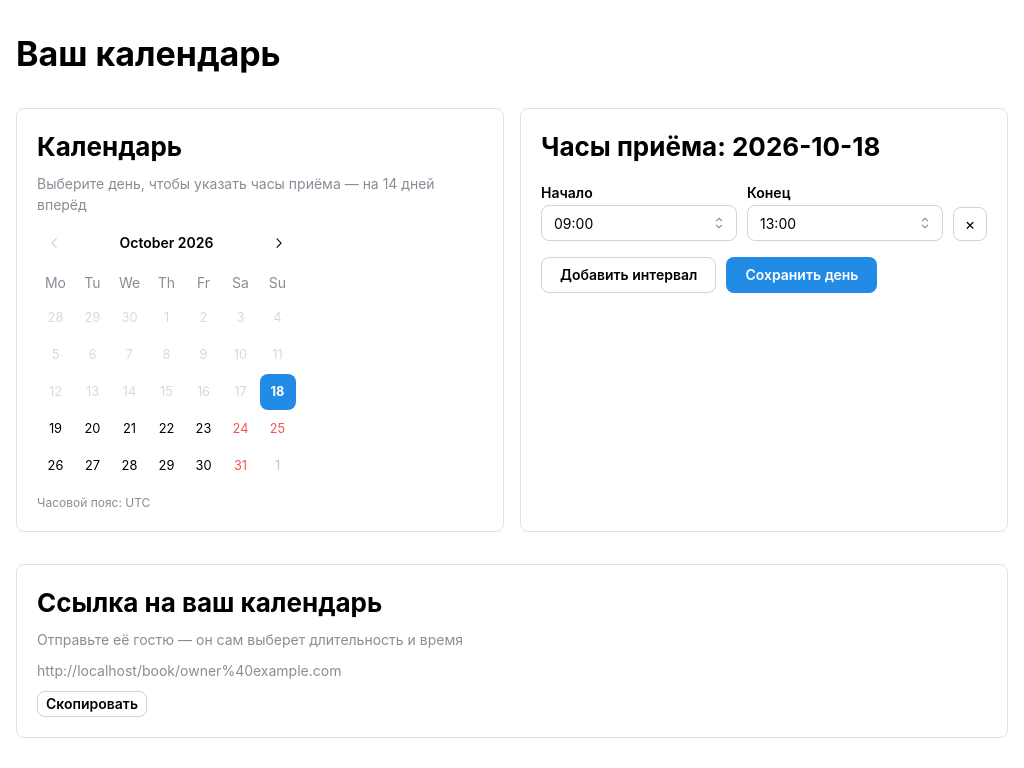
Test: кабинет владельца: календарь доступности › интервал можно удалить
What coordinates should you click on to do the following:
click the button named "Удалить интервал"
I would click on:
 (970, 224)
Its box is [953,207,987,241].
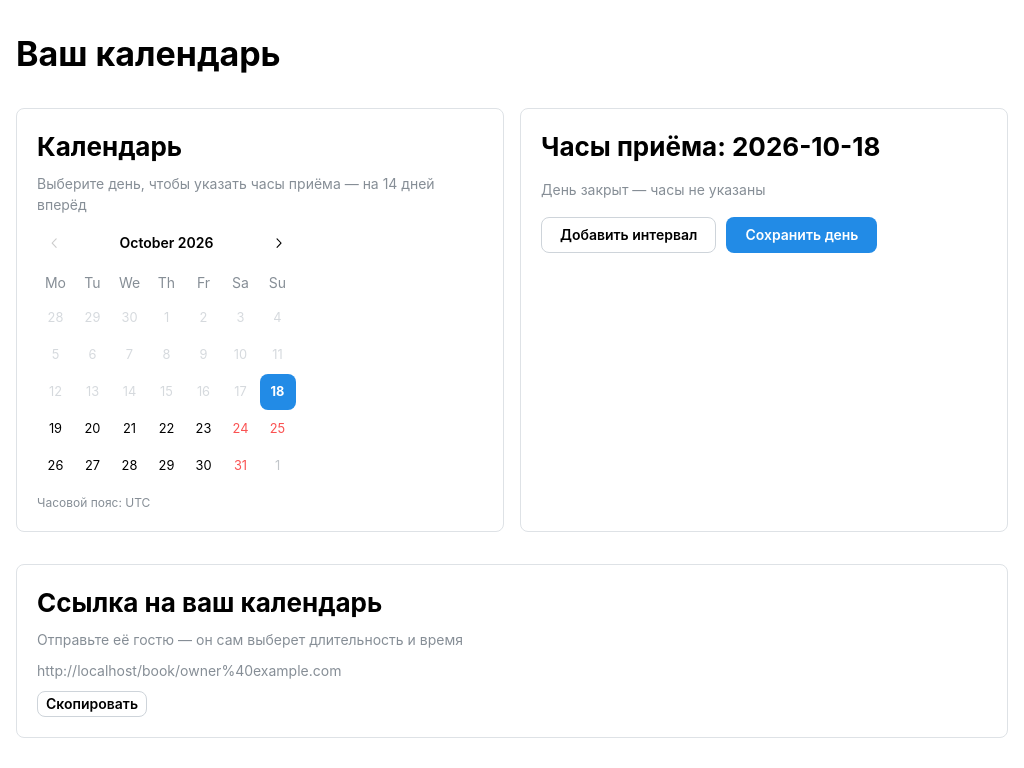
Expected: the text "День закрыт — часы не указаны" is shown, [541,181,766,198]
